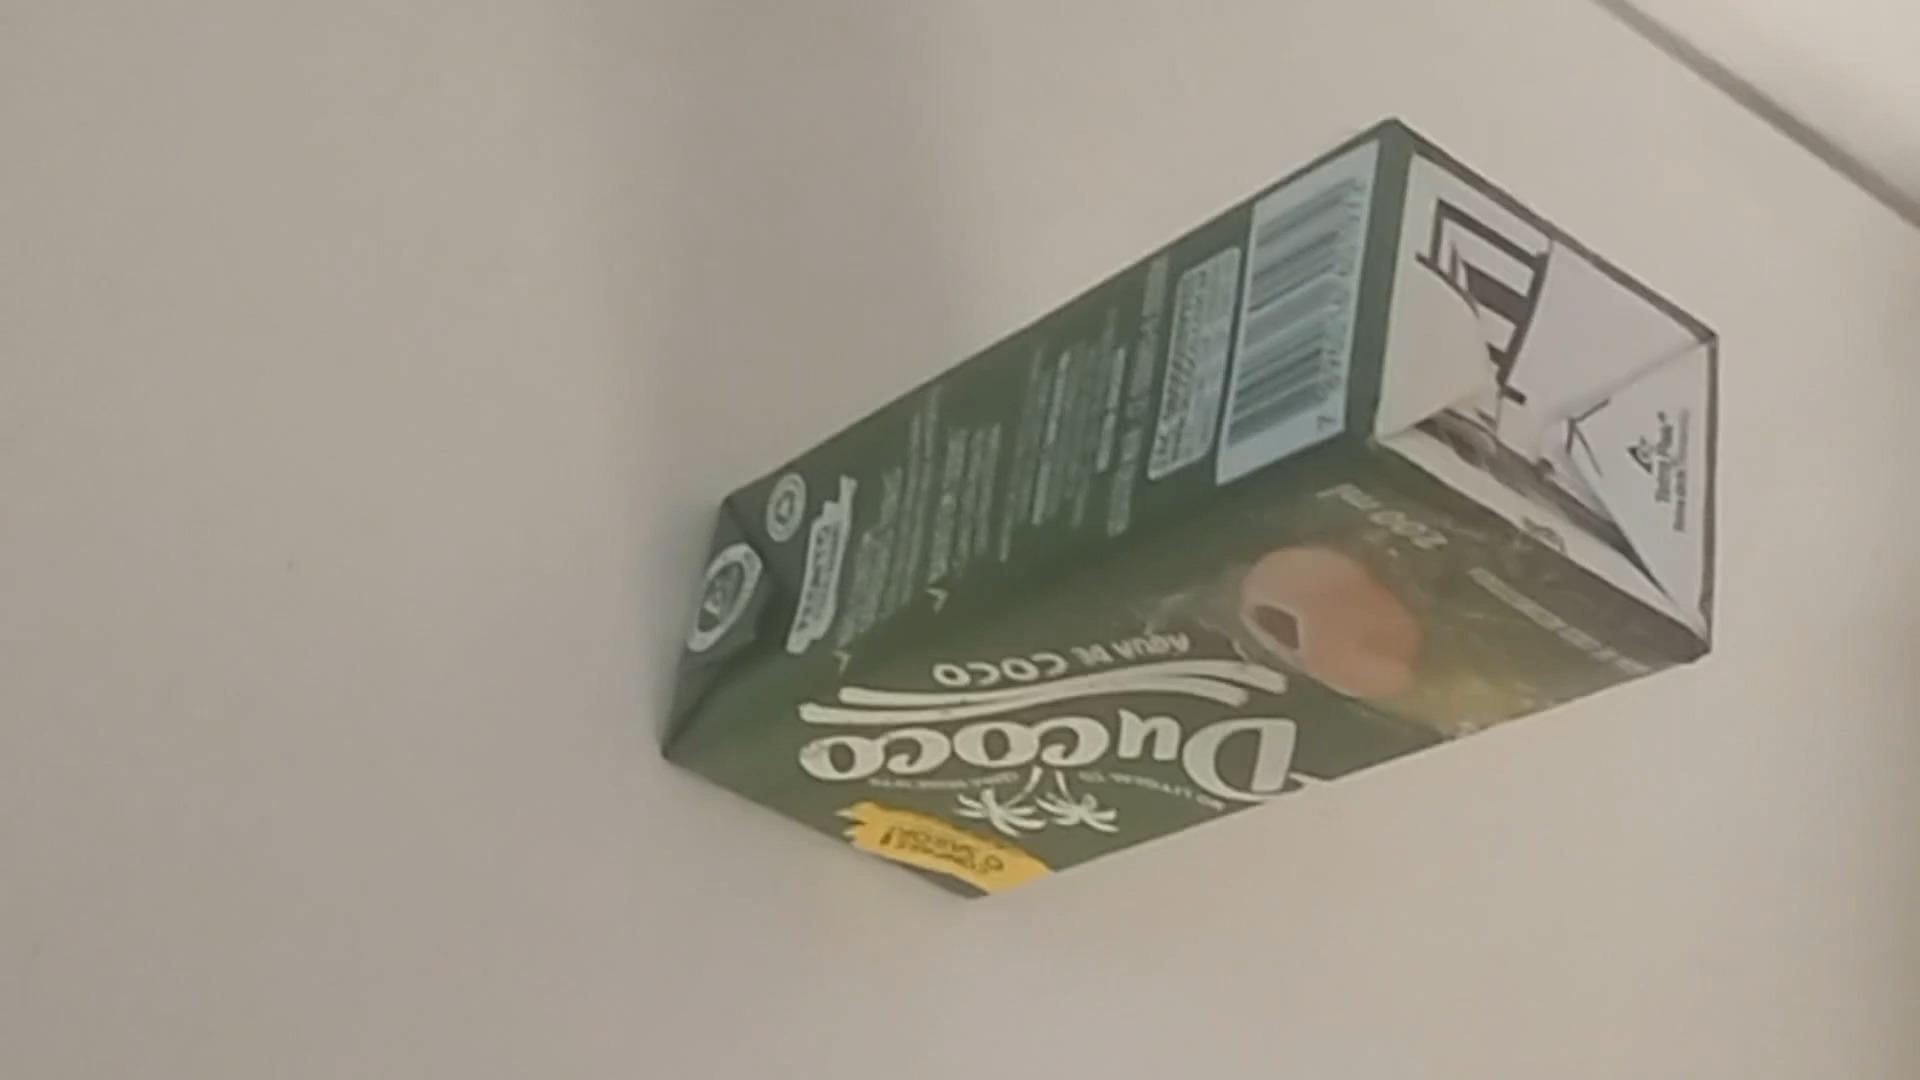coco: (678, 117, 1721, 894)
